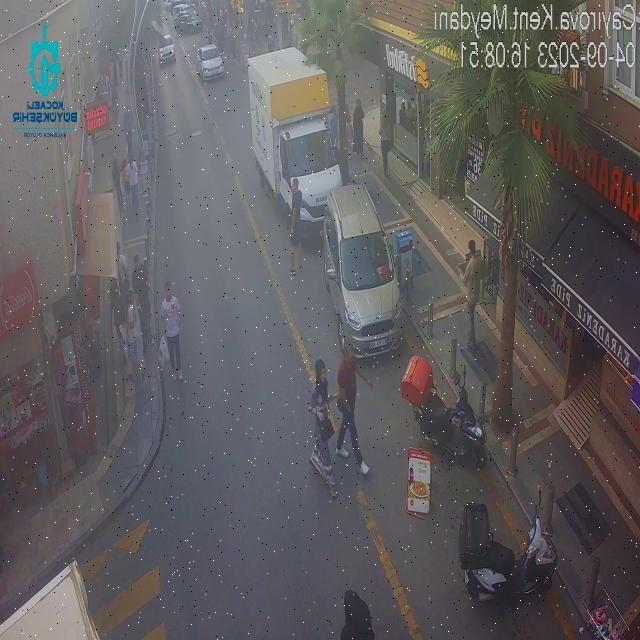Car: (313, 180, 407, 351), (197, 43, 226, 80), (156, 32, 178, 67)
Cycle: (402, 353, 488, 467), (462, 500, 556, 602)
Truck: (250, 43, 354, 237)
